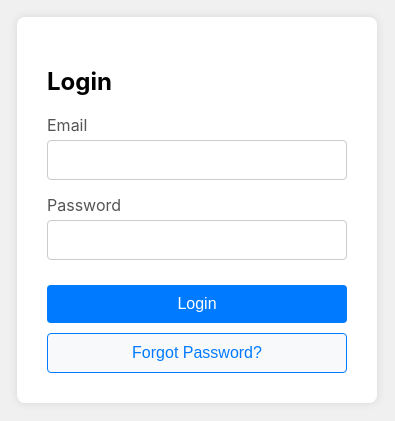
Test case: Login Component › shows forgot password form when "Forgot Password?" is clicked
The width and height of the screenshot is (395, 421).
Click the button "Forgot Password?" at (197, 353), box top-left (47, 333), bottom-right (347, 373)
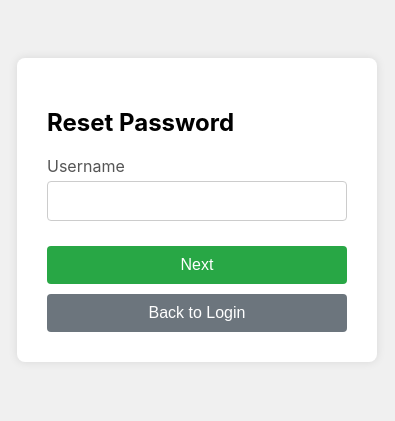
Check: the heading "Reset Password" is shown, box top-left (47, 108), bottom-right (234, 136)
